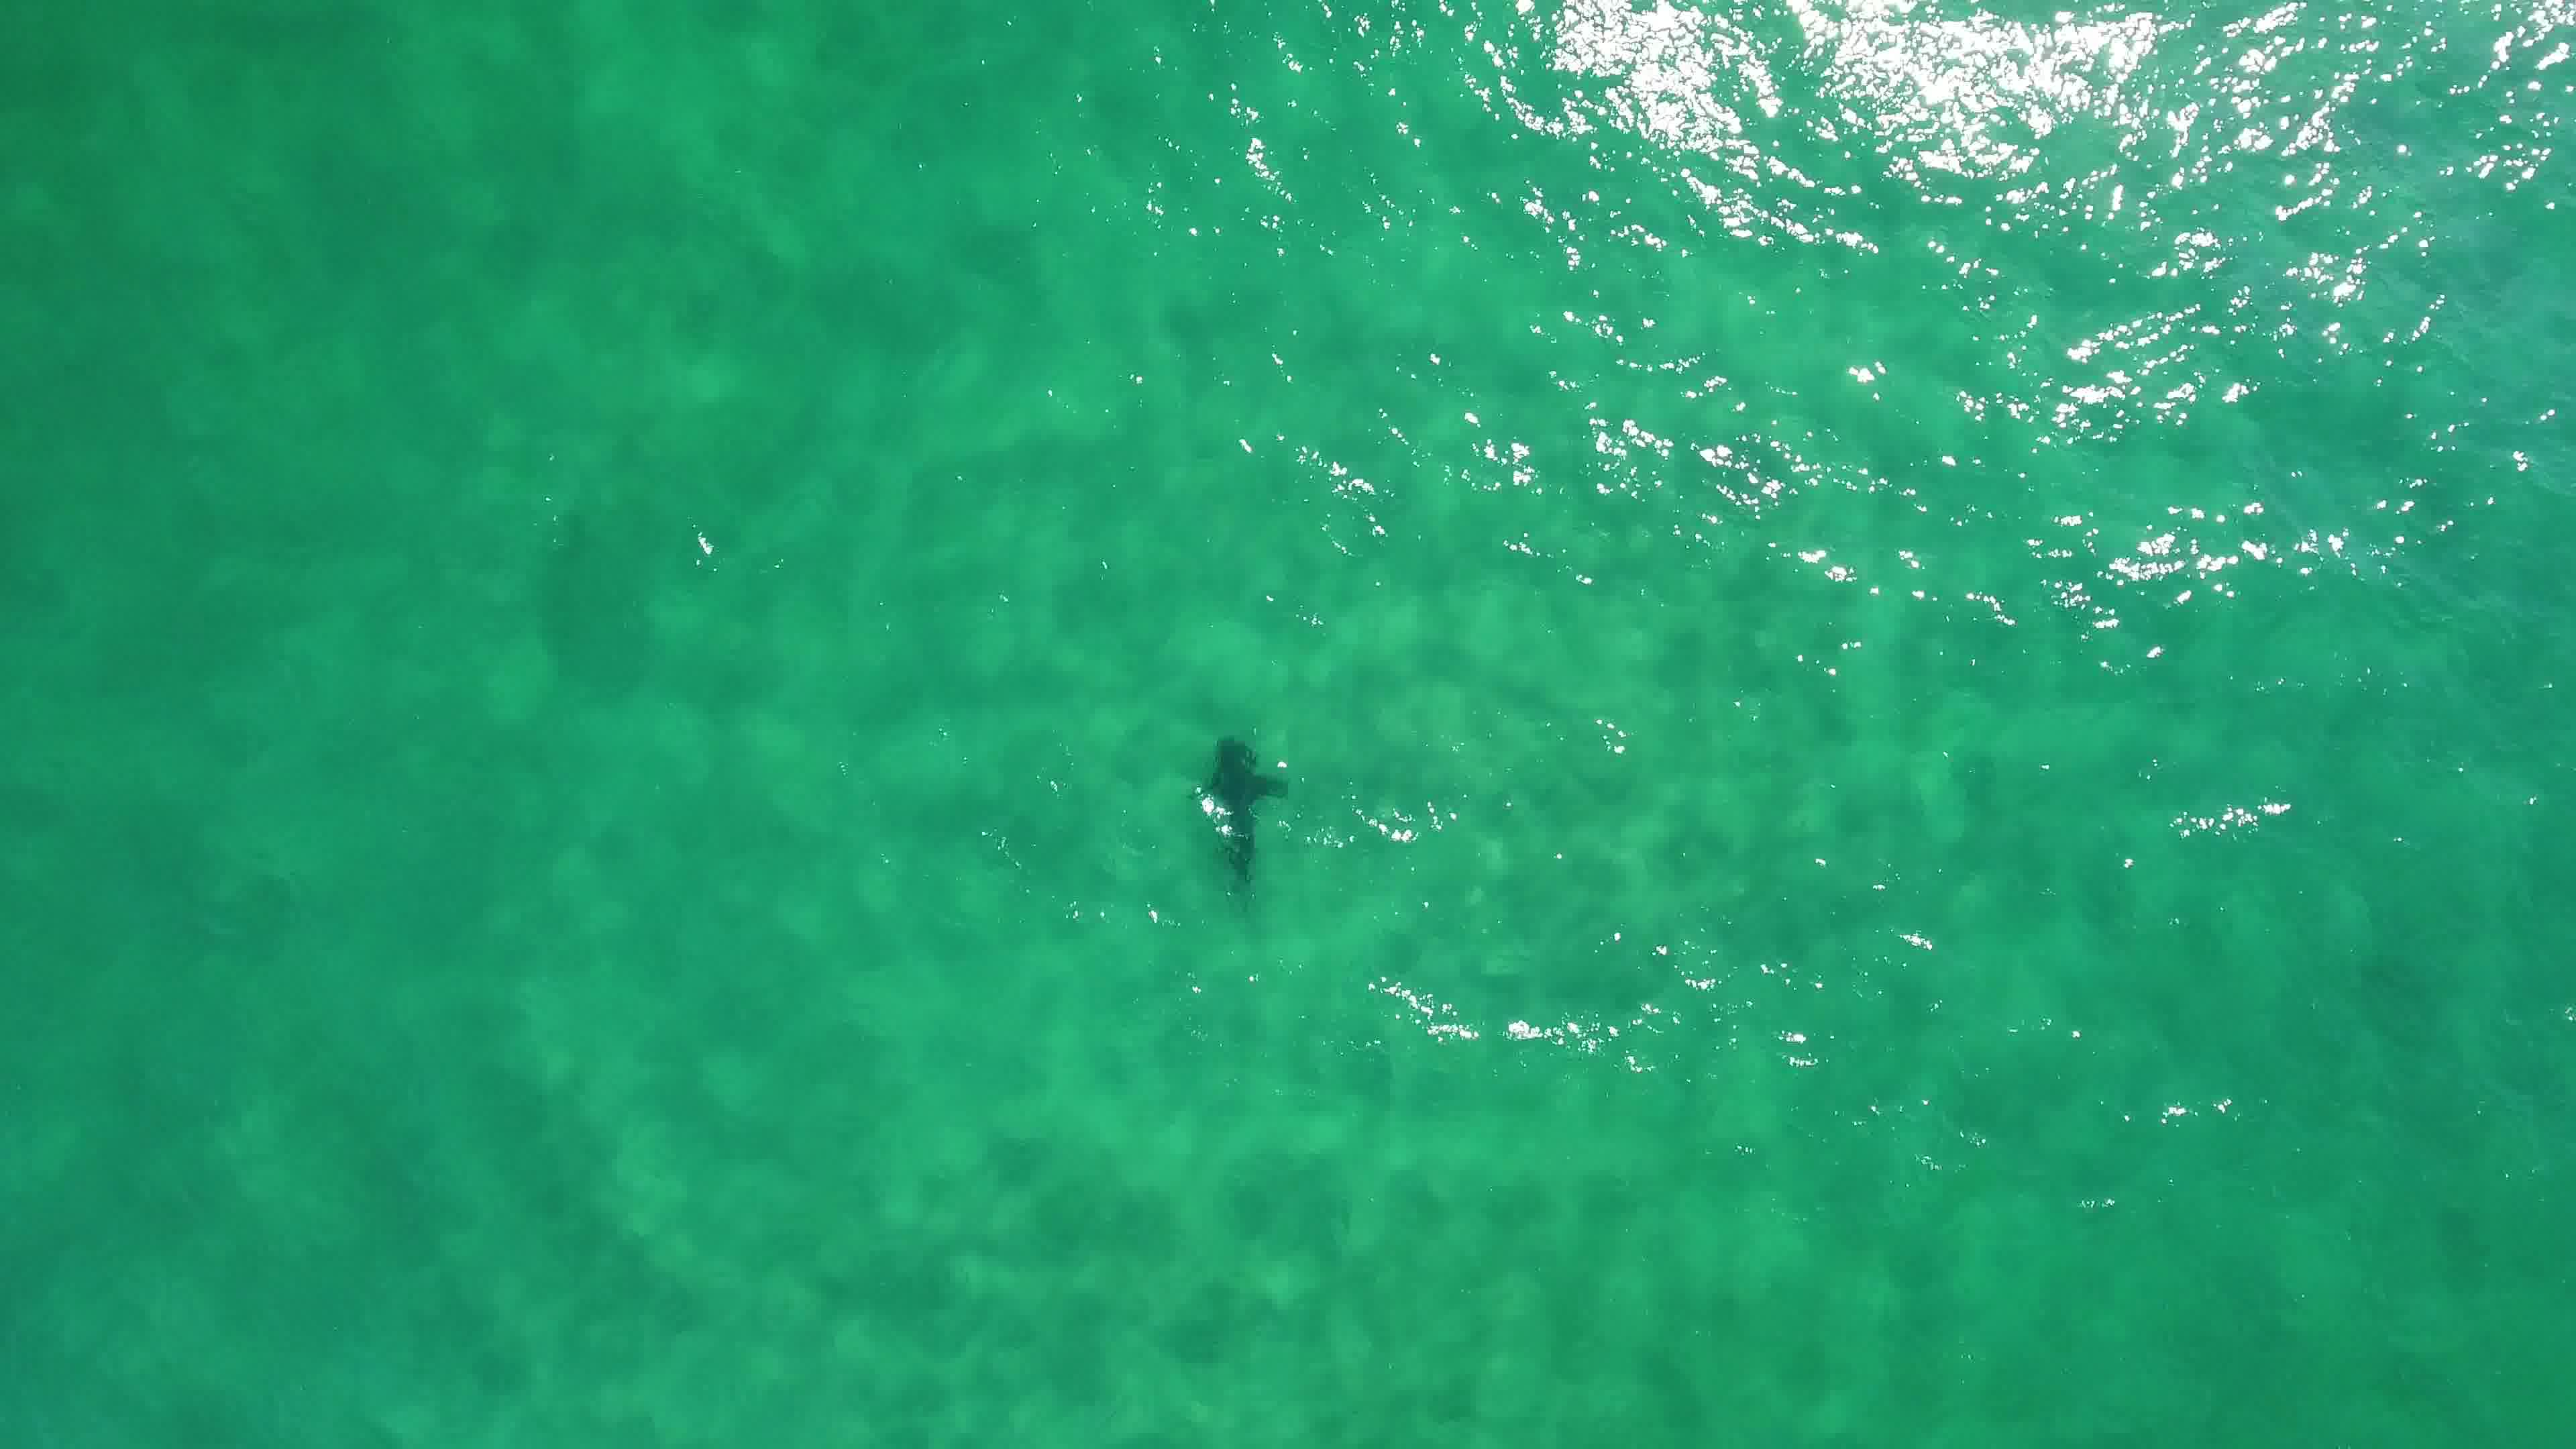shark: (1184, 725, 1297, 893)
